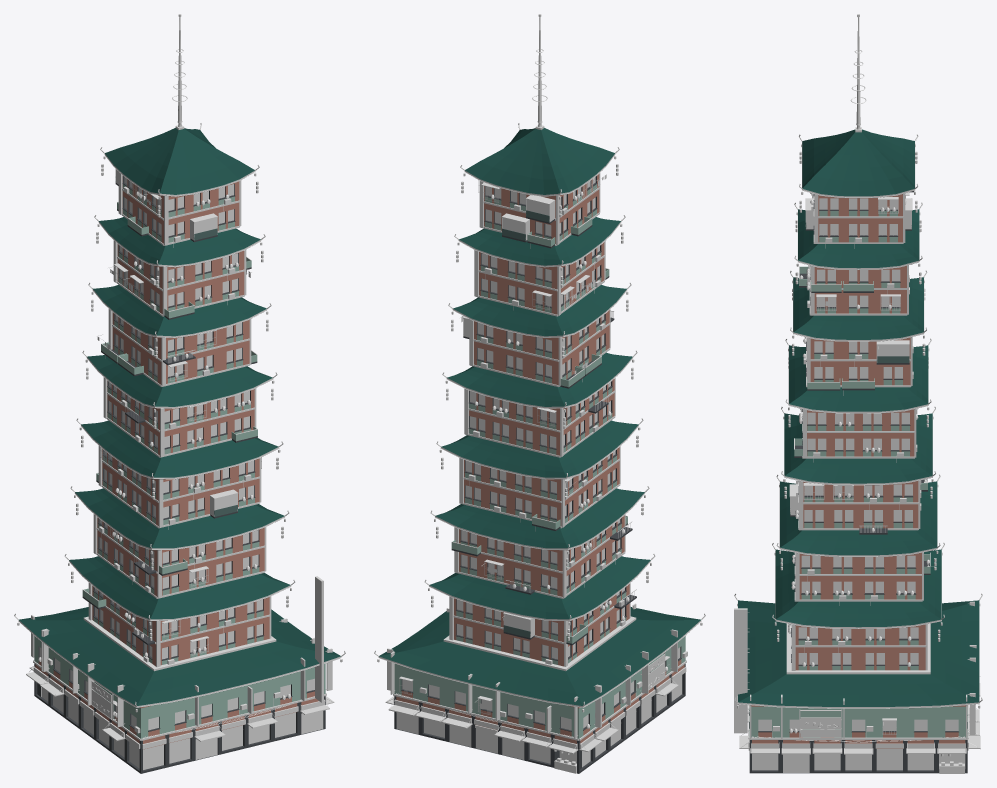
The model's file is LM_NM_JadeLanternTower.fbx.
The picture shows the model from 3 angles, left to right: view 1: azimuth 30°, elevation 25°; view 2: azimuth 150°, elevation 25°; view 3: azimuth 270°, elevation 25°; orthographic projection. The views are drawn at different scales.
Visible parts, largest first — view 1: LM_NM_JadeLanternTower_LOD0; view 2: LM_NM_JadeLanternTower_LOD0; view 3: LM_NM_JadeLanternTower_LOD0.
Boxes of the visible parts, <box> form: LM_NM_JadeLanternTower_LOD0: <box>14,14,345,773</box>; LM_NM_JadeLanternTower_LOD0: <box>374,14,705,773</box>; LM_NM_JadeLanternTower_LOD0: <box>734,14,982,773</box>.
Size of what is drawn, in the model's own units: 29.64 by 93.8 by 29.67.
